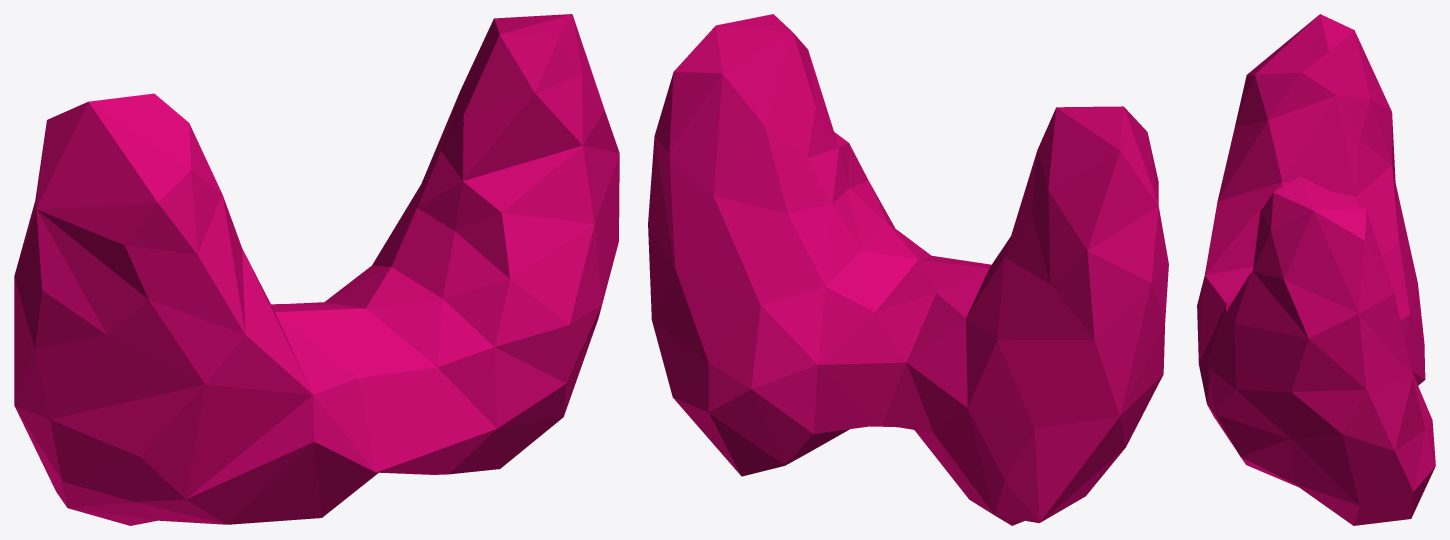
File: 222-VAMC-ventral anterior thalamic nucleus, magnocellular part-('1.0000', '0.0000', '0.5333').obj
The picture shows the model from 3 angles, left to right: view 1: azimuth 30°, elevation 25°; view 2: azimuth 150°, elevation 25°; view 3: azimuth 270°, elevation 25°; orthographic projection. The views are drawn at different scales.
Bounding box in the file's own units: 30.68 × 24.42 × 14.55.
